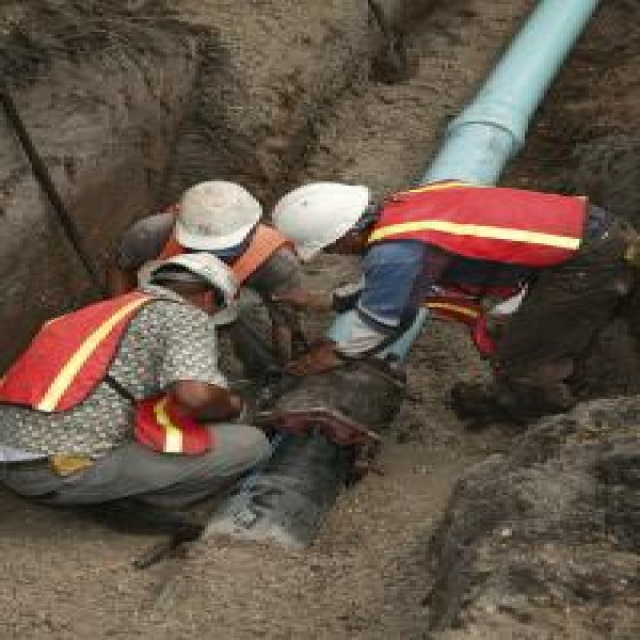Helmet: (265, 164, 389, 284), (123, 247, 252, 334), (163, 162, 270, 253)
Reflective vest: (366, 169, 598, 356), (2, 291, 218, 462)
